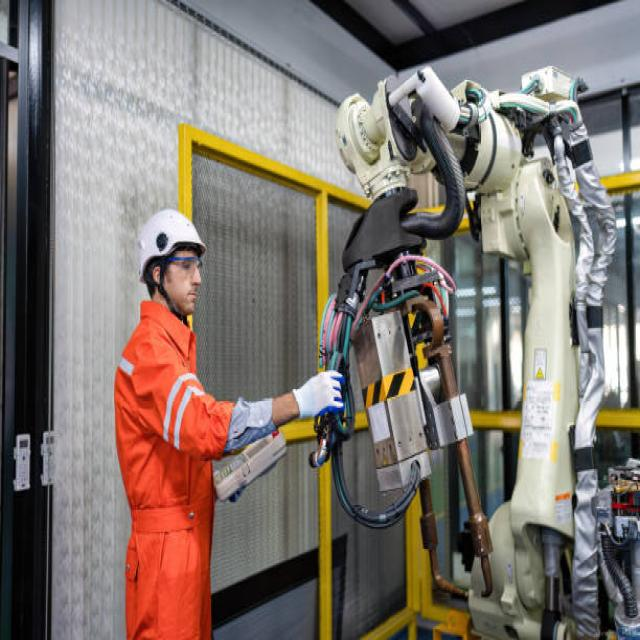Robotic-arm: (332, 63, 608, 569)
